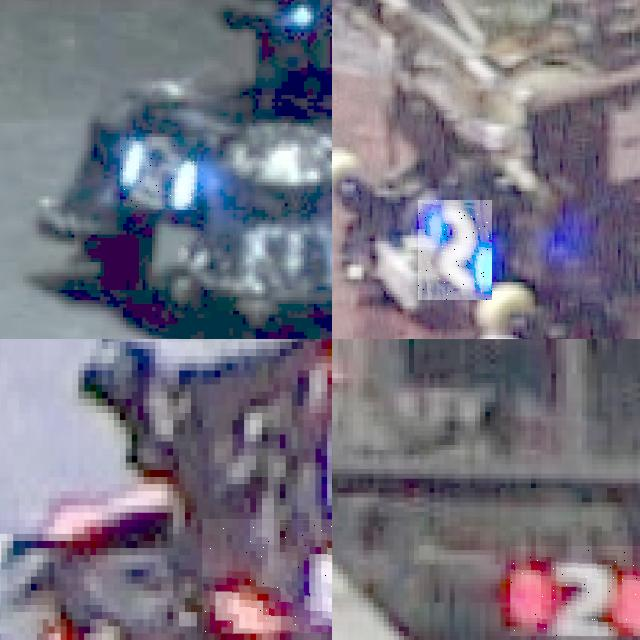B2: (418, 200, 492, 300)
Bs: (120, 137, 197, 210)
R2: (510, 545, 640, 636)
R4: (202, 519, 332, 633), (10, 601, 176, 640)
